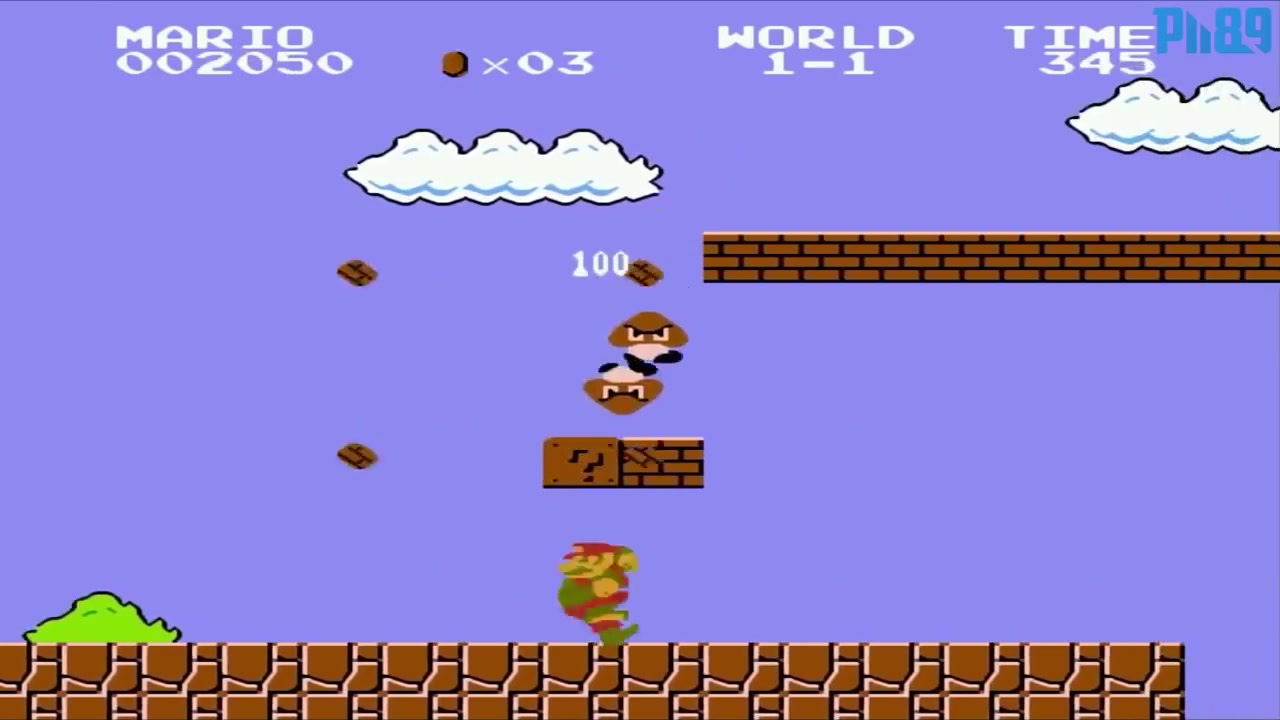mario: (543, 530, 645, 642)
